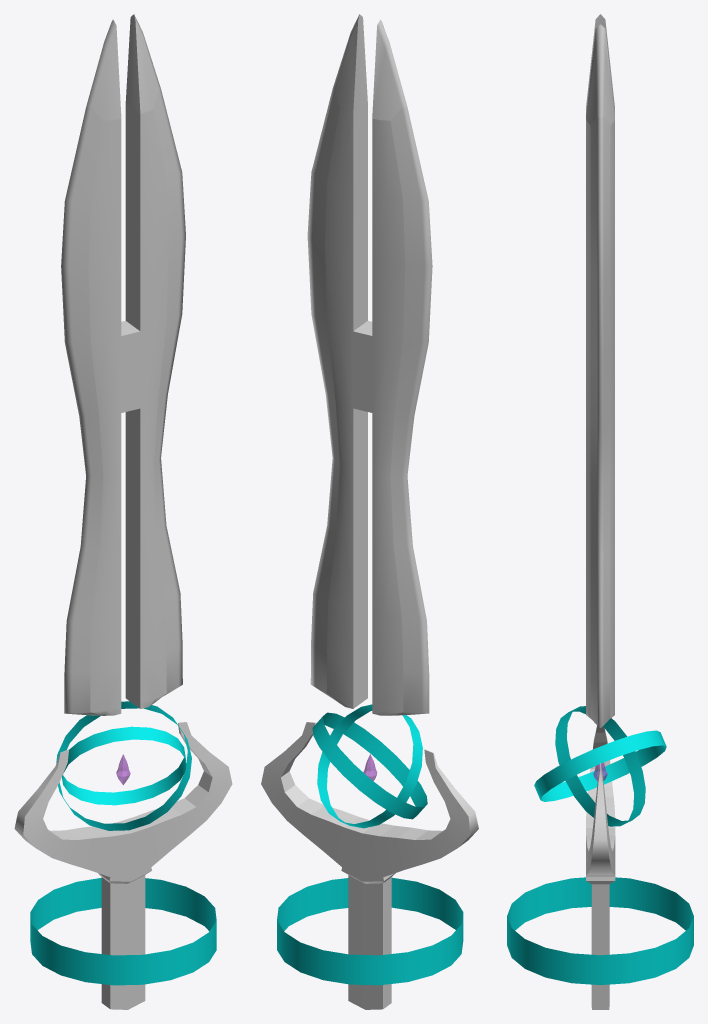
Rendered from BossSword.fbx.
The picture shows the model from 3 angles, left to right: view 1: azimuth 30°, elevation 25°; view 2: azimuth 150°, elevation 25°; view 3: azimuth 270°, elevation 25°; orthographic projection.
Visible parts, largest first — view 1: BossSword, BSHandle_holo, BSMagic_holo2, BSMagic_holo1; view 2: BossSword, BSHandle_holo, BSMagic_holo1, BSMagic_holo2; view 3: BossSword, BSHandle_holo, BSMagic_holo1, BSMagic_holo2.
Boxes of the visible parts, bbox=[...] form: BossSword: bbox=[14, 14, 232, 1009]; BSHandle_holo: bbox=[30, 878, 216, 985]; BSMagic_holo2: bbox=[62, 726, 186, 805]; BSMagic_holo1: bbox=[56, 701, 191, 830]; BossSword: bbox=[261, 14, 478, 1009]; BSHandle_holo: bbox=[277, 877, 463, 985]; BSMagic_holo1: bbox=[312, 712, 427, 819]; BSMagic_holo2: bbox=[317, 704, 422, 828]; BossSword: bbox=[586, 14, 615, 1009]; BSHandle_holo: bbox=[507, 877, 693, 984]; BSMagic_holo1: bbox=[534, 730, 666, 801]; BSMagic_holo2: bbox=[555, 706, 645, 826].
Size of the model in its own units: 89.81 by 406 by 69.58.
